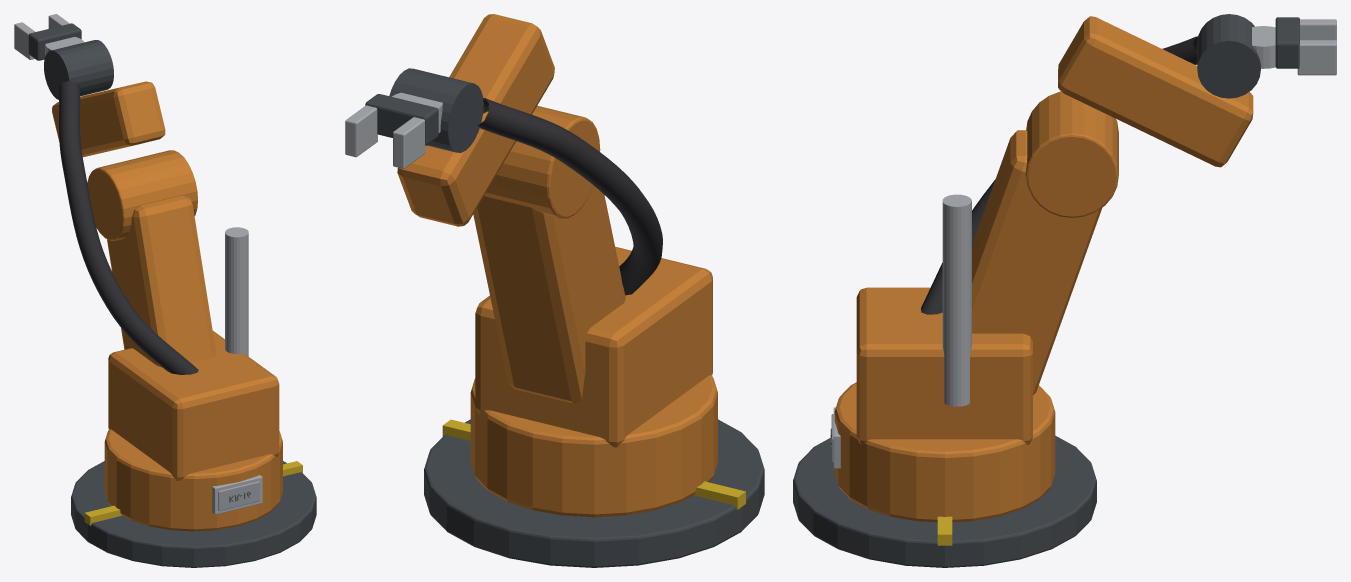
Rendered from robot.glb.
3 views of the same model, side by side, from view 1: azimuth 30°, elevation 25°; view 2: azimuth 150°, elevation 25°; view 3: azimuth 270°, elevation 25° (orthographic). The views are drawn at different scales.
Visible parts, largest first — view 1: rob_shoulder, rob_upper_arm, rob_base, rob_turret, rob_dress_pack, rob_elbow, rob_forearm, rob_balancer, rob_wrist, rob_gripper_bar, rob_nameplate, rob_warn_band (+2 smaller); view 2: rob_shoulder, rob_turret, rob_upper_arm, rob_base, rob_forearm, rob_dress_pack, rob_elbow, rob_wrist, rob_gripper_bar, rob_finger_1, rob_finger_-1, rob_warn_band; view 3: rob_shoulder, rob_turret, rob_base, rob_upper_arm, rob_forearm, rob_elbow, rob_balancer, rob_wrist, rob_dress_pack, rob_finger_1, rob_gripper_bar, rob_flange (+1 smaller).
Part boxes in pixels (<box>): rob_shoulder: <box>108,331,279,480</box>; rob_upper_arm: <box>107,195,216,367</box>; rob_base: <box>71,461,316,567</box>; rob_turret: <box>104,429,282,531</box>; rob_dress_pack: <box>58,81,198,374</box>; rob_elbow: <box>87,150,197,240</box>; rob_forearm: <box>52,81,165,157</box>; rob_balancer: <box>225,227,248,356</box>; rob_wrist: <box>44,40,113,99</box>; rob_gripper_bar: <box>28,23,81,60</box>; rob_nameplate: <box>218,481,259,510</box>; rob_warn_band: <box>84,461,302,525</box>; rob_shoulder: <box>475,247,712,447</box>; rob_turret: <box>470,375,717,517</box>; rob_upper_arm: <box>473,185,625,403</box>; rob_base: <box>424,419,764,567</box>; rob_forearm: <box>397,14,554,226</box>; rob_dress_pack: <box>477,98,662,295</box>; rob_elbow: <box>484,105,600,218</box>; rob_wrist: <box>389,68,483,152</box>; rob_gripper_bar: <box>365,94,438,145</box>; rob_finger_1: <box>345,105,377,157</box>; rob_finger_-1: <box>393,117,425,168</box>; rob_warn_band: <box>442,419,745,509</box>; rob_shoulder: <box>856,287,1032,444</box>; rob_turret: <box>834,382,1055,522</box>; rob_base: <box>793,435,1096,567</box>; rob_upper_arm: <box>972,130,1102,395</box>; rob_forearm: <box>1058,16,1253,167</box>; rob_elbow: <box>1025,91,1118,217</box>; rob_balancer: <box>942,194,971,406</box>; rob_wrist: <box>1197,14,1260,98</box>; rob_dress_pack: <box>921,36,1197,314</box>; rob_finger_1: <box>1297,40,1336,75</box>; rob_gripper_bar: <box>1275,17,1299,68</box>; rob_flange: <box>1252,26,1275,68</box>.
Size of the model in its own units: 1.24 by 2.16 by 2.22.
